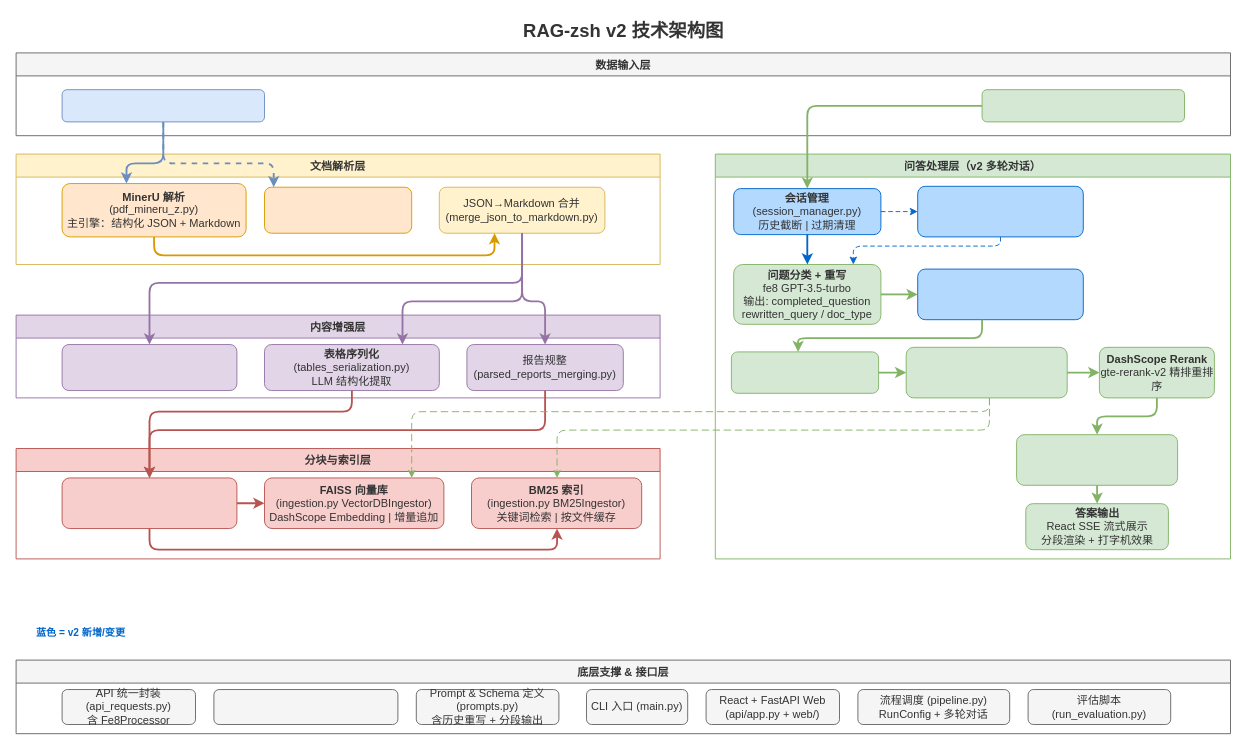
The diagram is 1247 pixels wide and 750 high, and some of its shapes have lost their labels. The shapes that lost their labels are listed below. From the top down, each one's centre as x and y in pixels, then its label:
At (162,105): "PDF 研报/年报 (证券研报、企业年报、调研纪要)".
At (1082,105): "用户问题 (React Web 界面) 支持多轮对话追问".
At (338,209): "Docling 解析 (pdf_parsing.py) 备选引擎".
At (1000,211): "历史上下文注入 summarize_history_for_rewrite 注入对话历史到重写 Prompt".
At (1000,294): "追问检索增强 expand_followup_query 财务术语词表提取前一轮关键词".
At (149,367): "图片描述 (image_description.py) qwen-vl-plus 多模态模型".
At (804,372): "元数据过滤 公司 / 券商 / 文档类型 / 时间".
At (986,372): "混合检索 (HybridBM25VectorRetriever) BM25 + FAISS 双路召回".
At (1097,459): "LLM 生成答案 fe8 GPT-4-turbo 分段输出 + 溯源引用".
At (149,503): "文本分块 (text_splitter_z.py) Token 切分 + 表格特殊处理".
At (305,706): "并发请求处理器 (api_request_parallel_processor.py)".
